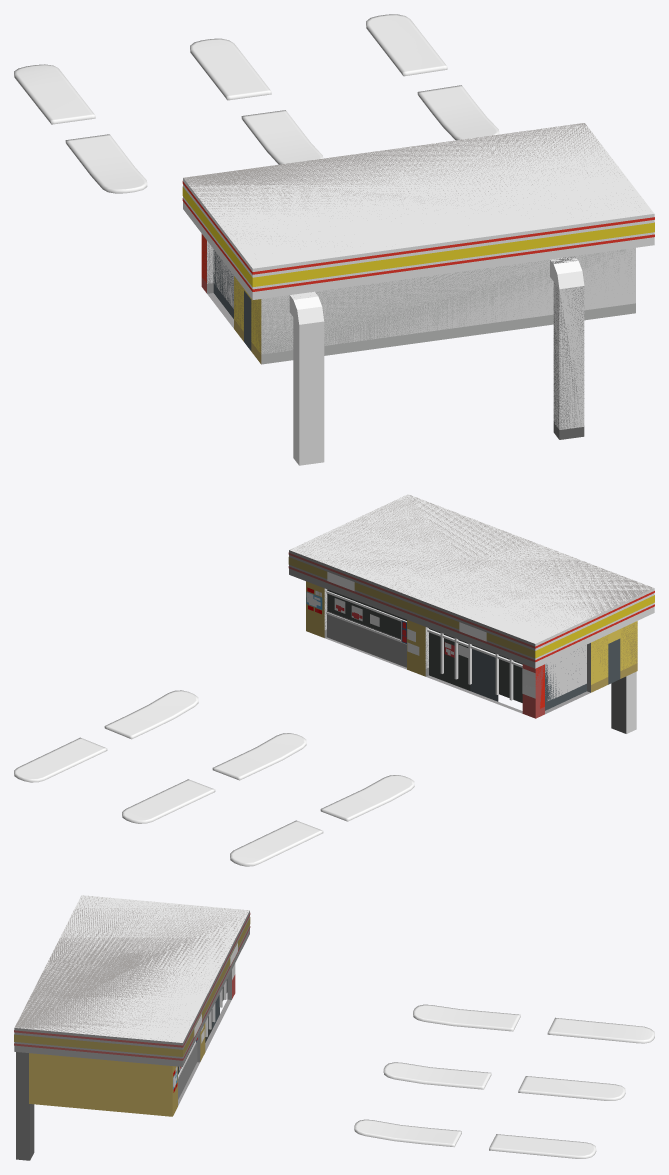
The model's file is gasstation_north.dae.
3 views of the same model, one above another, from view 1: azimuth 30°, elevation 25°; view 2: azimuth 150°, elevation 25°; view 3: azimuth 270°, elevation 25° (orthographic). The views are drawn at different scales.
Visible parts, largest first — view 1: gasstation_north_a600, gasstation_north_a300, gasstation_north_a150; view 2: gasstation_north_a600, gasstation_north_a150, gasstation_north_a300; view 3: gasstation_north_a600, gasstation_north_a150.
Boxes of the visible parts, <box> form: gasstation_north_a600: <box>14,14,654,465</box>; gasstation_north_a300: <box>201,234,635,439</box>; gasstation_north_a150: <box>183,123,638,350</box>; gasstation_north_a600: <box>14,494,654,866</box>; gasstation_north_a150: <box>288,495,653,733</box>; gasstation_north_a300: <box>324,590,637,718</box>; gasstation_north_a600: <box>15,895,654,1158</box>; gasstation_north_a150: <box>14,895,250,1160</box>.
Size of the model in its own units: 24.19 by 36.44 by 9.86.
